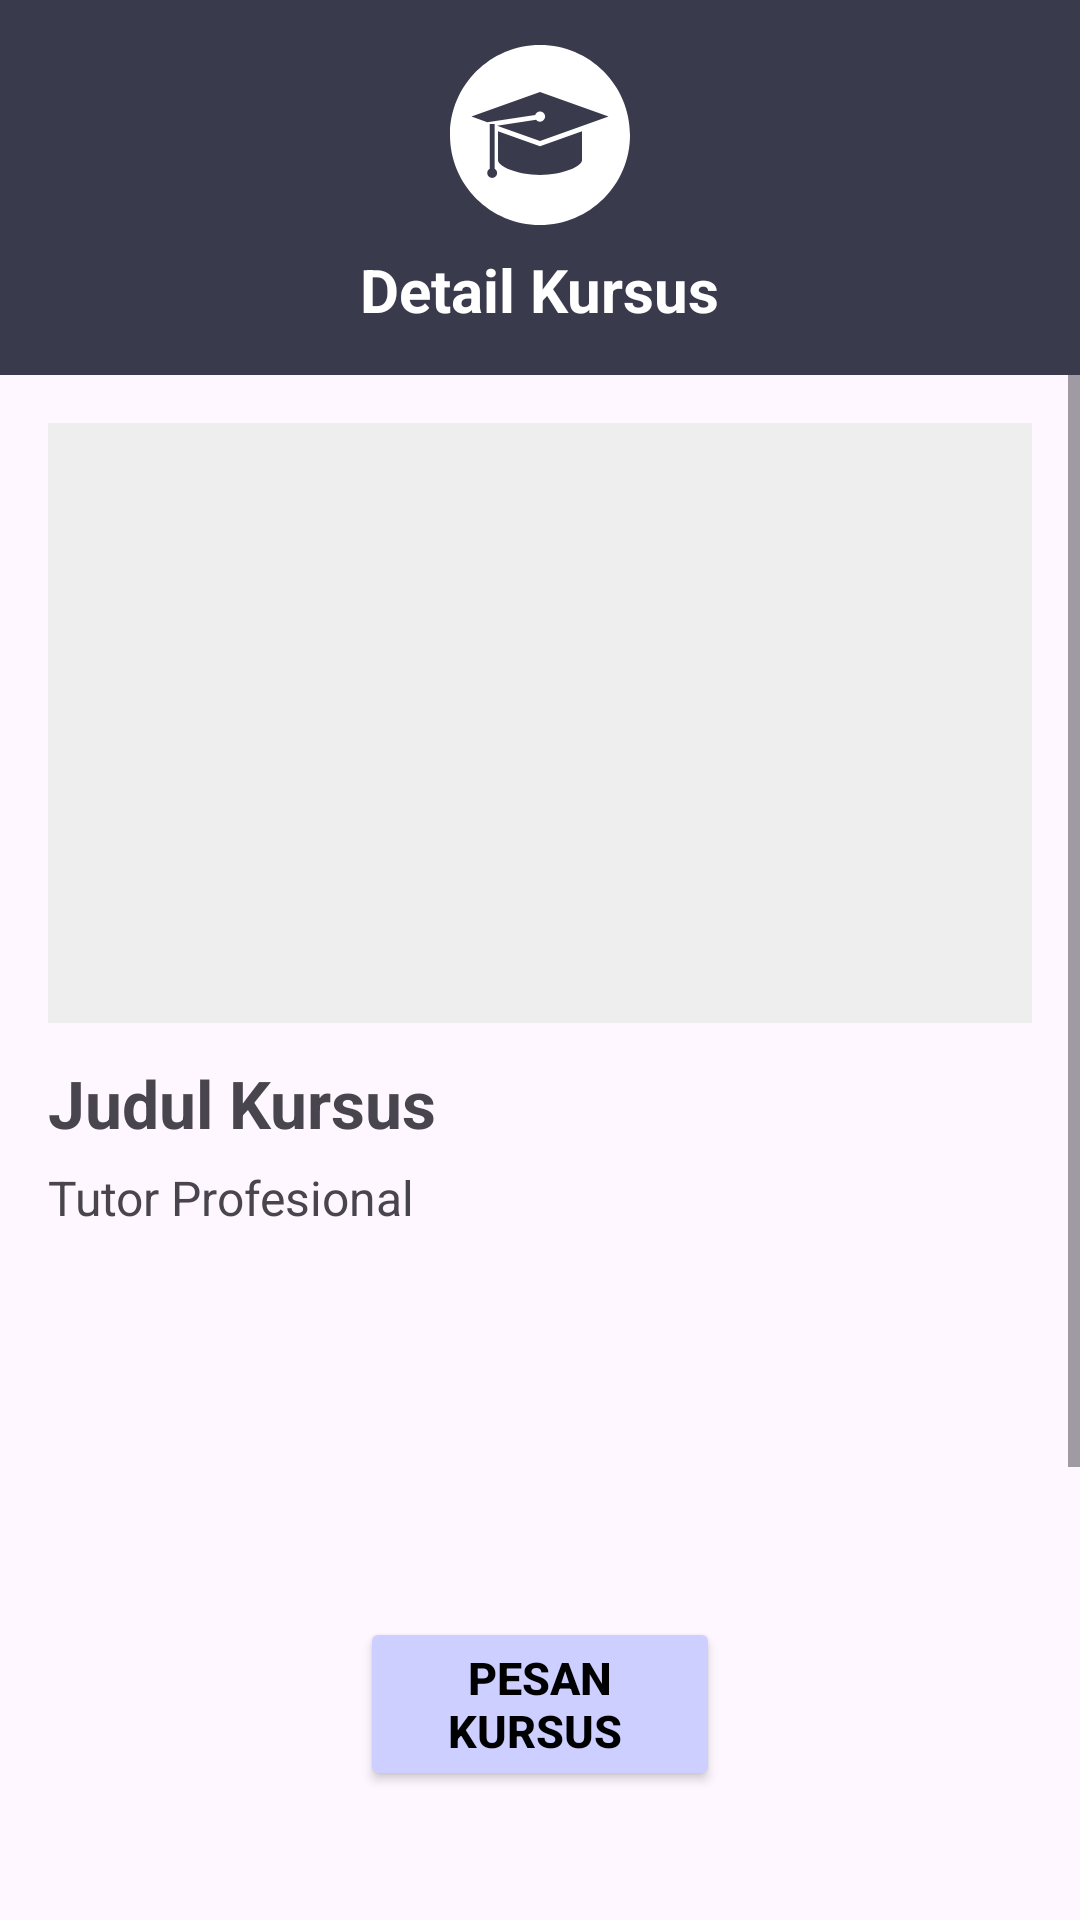

Point at icon controls on the screen. Image size 1080*1920, points as (x=x, y=y).
headergraduation: (x=540, y=135)
